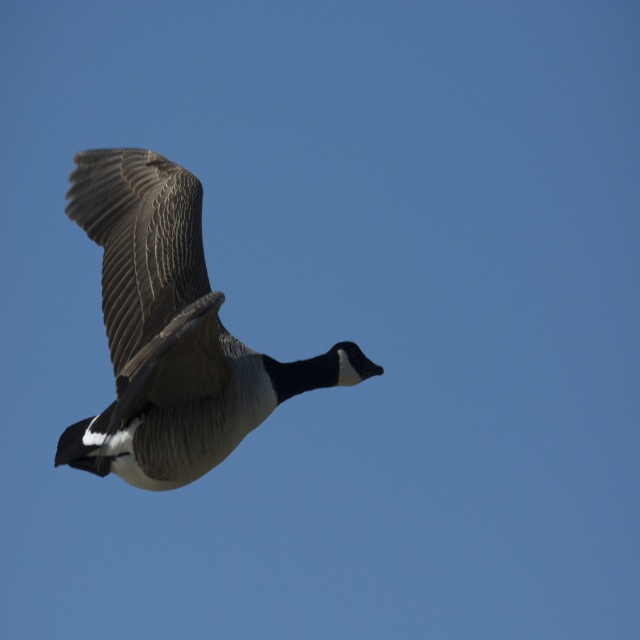Duck: (48, 124, 416, 502)
